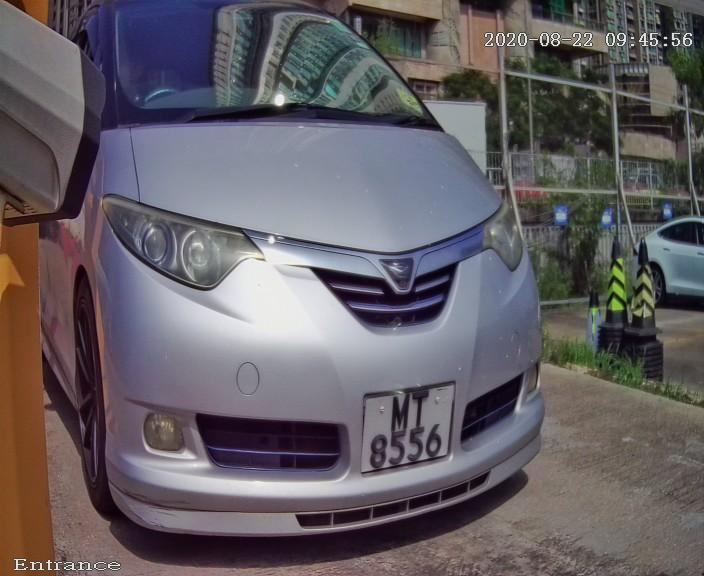Car: (32, 1, 591, 576)
License Plate: (349, 371, 472, 494)
